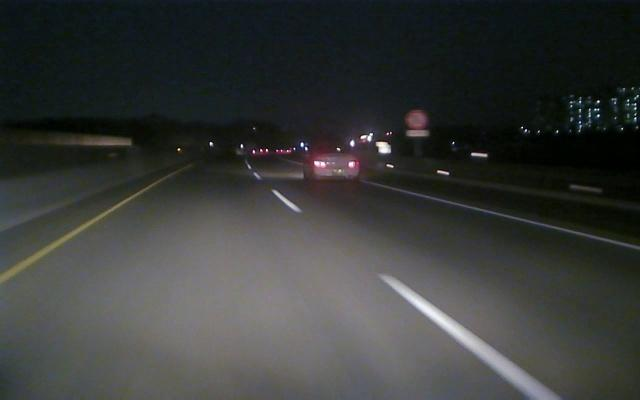lane: (266, 186, 560, 397), (368, 182, 638, 251), (1, 192, 139, 282)
